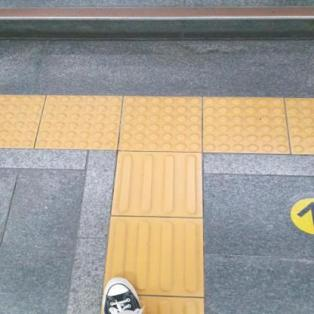Podoctatil: (0, 93, 313, 154), (100, 154, 204, 312)
